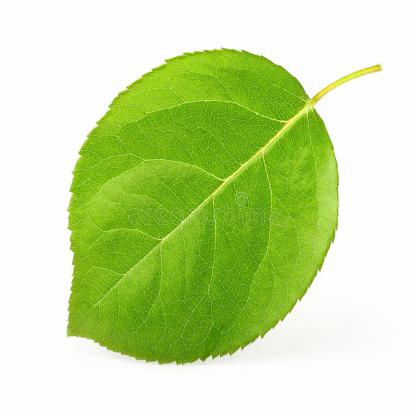apple leaf: (64, 43, 344, 383)
